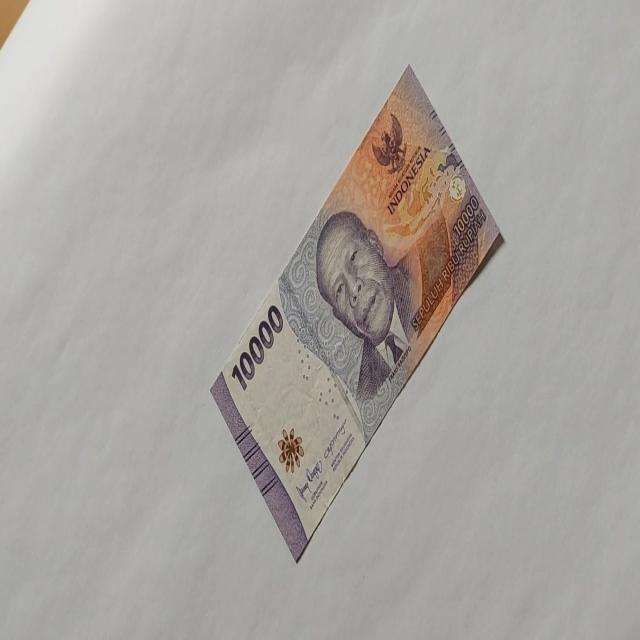sepuluh ribu rupiah: (208, 62, 504, 563), (314, 208, 416, 404), (230, 302, 284, 392)
